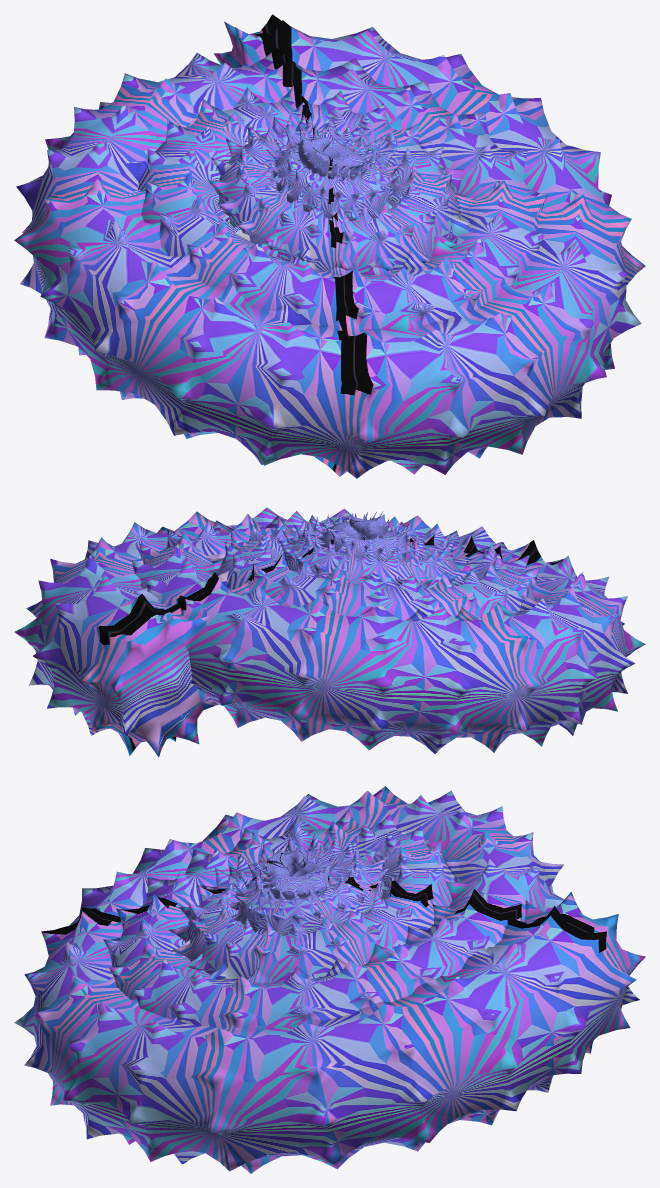
Rendered from mother_shell.obj.
3 renders of one model, top to bottom at view 1: azimuth 30°, elevation 25°; view 2: azimuth 150°, elevation 25°; view 3: azimuth 270°, elevation 25°, orthographic. The views are drawn at different scales.
Visible parts, largest first — view 1: g_1; view 2: g_1; view 3: g_1.
Boxes of the visible parts, x1,y1,x2,y2 form: g_1: (14,14,645,478); g_1: (14,507,645,757); g_1: (14,786,645,1173).
Size of the model in its own units: 6.96 by 2.98 by 7.1.
Materials: 1 (1 with a texture image).
